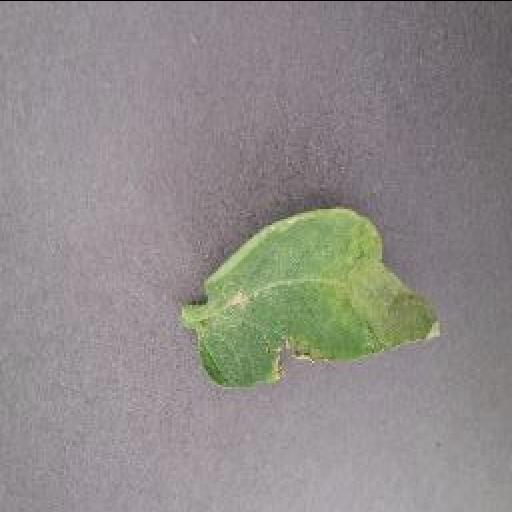disease_tomato: (191, 206, 441, 386)
